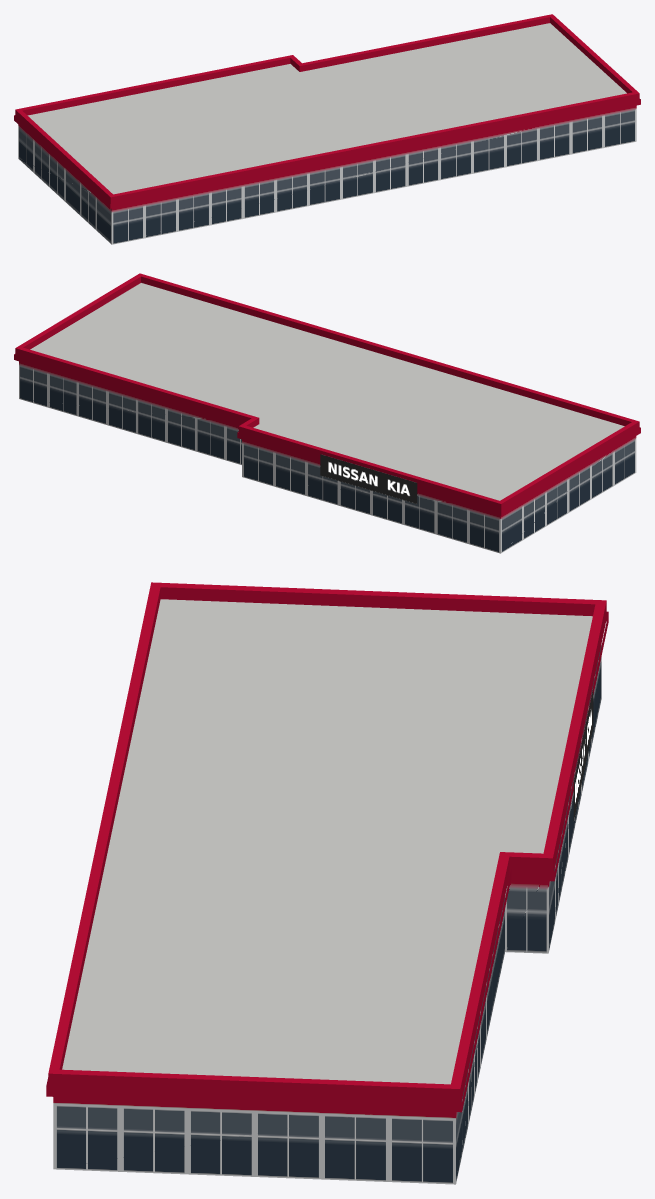
Rendered from topcar_nissankia.glb.
3 views of the same model, one above another, from view 1: azimuth 30°, elevation 25°; view 2: azimuth 150°, elevation 25°; view 3: azimuth 270°, elevation 25° (orthographic). The views are drawn at different scales.
Visible parts, largest first — view 1: topcar_nissankia_lod0; view 2: topcar_nissankia_lod0; view 3: topcar_nissankia_lod0.
Part boxes in pixels (bbox=[...]): topcar_nissankia_lod0: bbox=[14, 14, 640, 244]; topcar_nissankia_lod0: bbox=[14, 273, 640, 553]; topcar_nissankia_lod0: bbox=[46, 582, 608, 1184].
Size of what is drawn, in the model's own units: 63.66 by 5.7 by 29.76.
4 materials, 2 textured.
